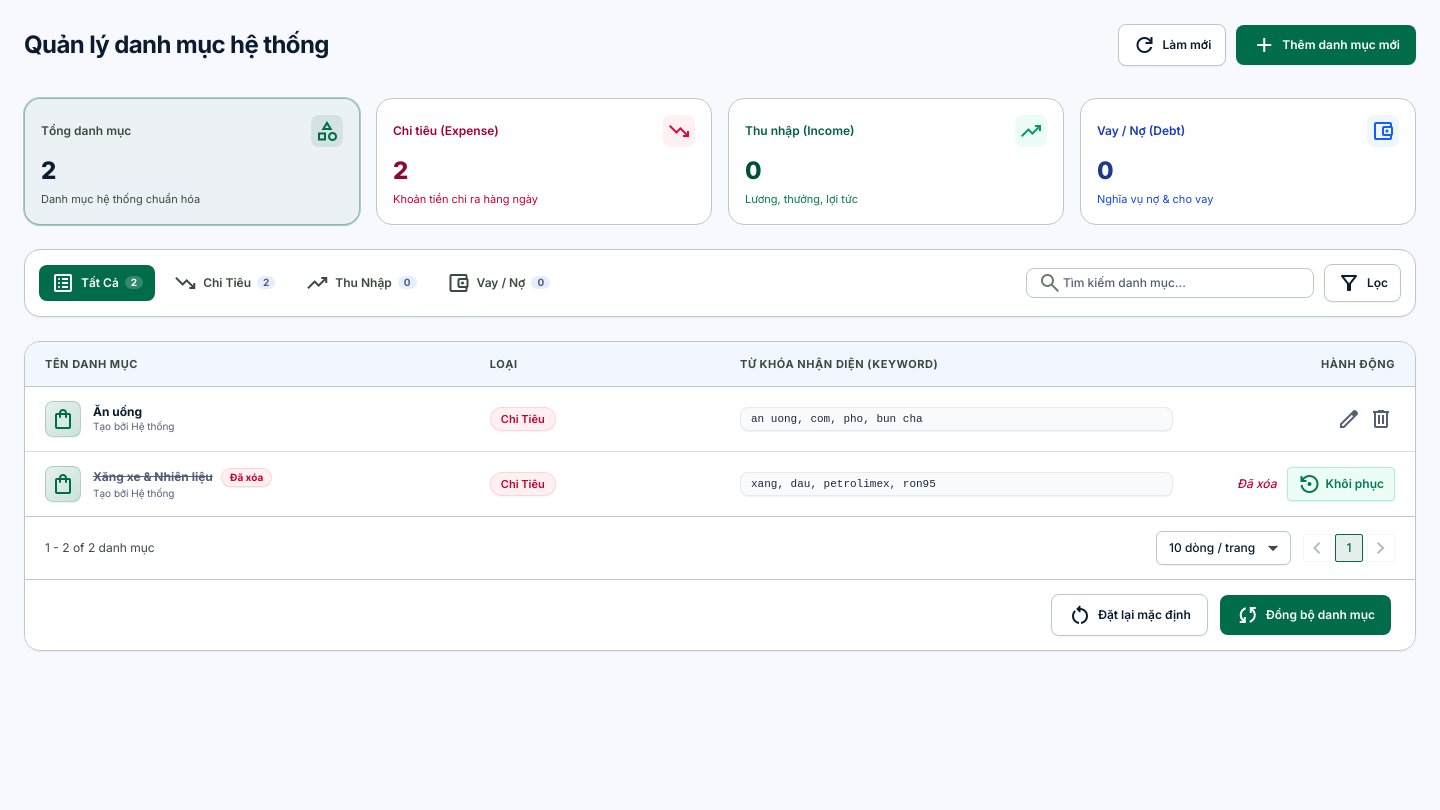
Category Soft-Delete & Restore 2-Tier Testing Suite (Rule 11) › 🧱 TẦNG 1: UI Rendering & User Interaction Verification › 1.2. Click nút "Khôi phục": danh mục chuyển ngay sang trạng thái hoạt động với badge "Đã khôi phục (nháp)"
Expected: the text "Xăng xe & Nhiên liệu" is shown, [93,469,213,485]
Click the button "Khôi phục" at (1341, 484), box [1286,467,1395,501]
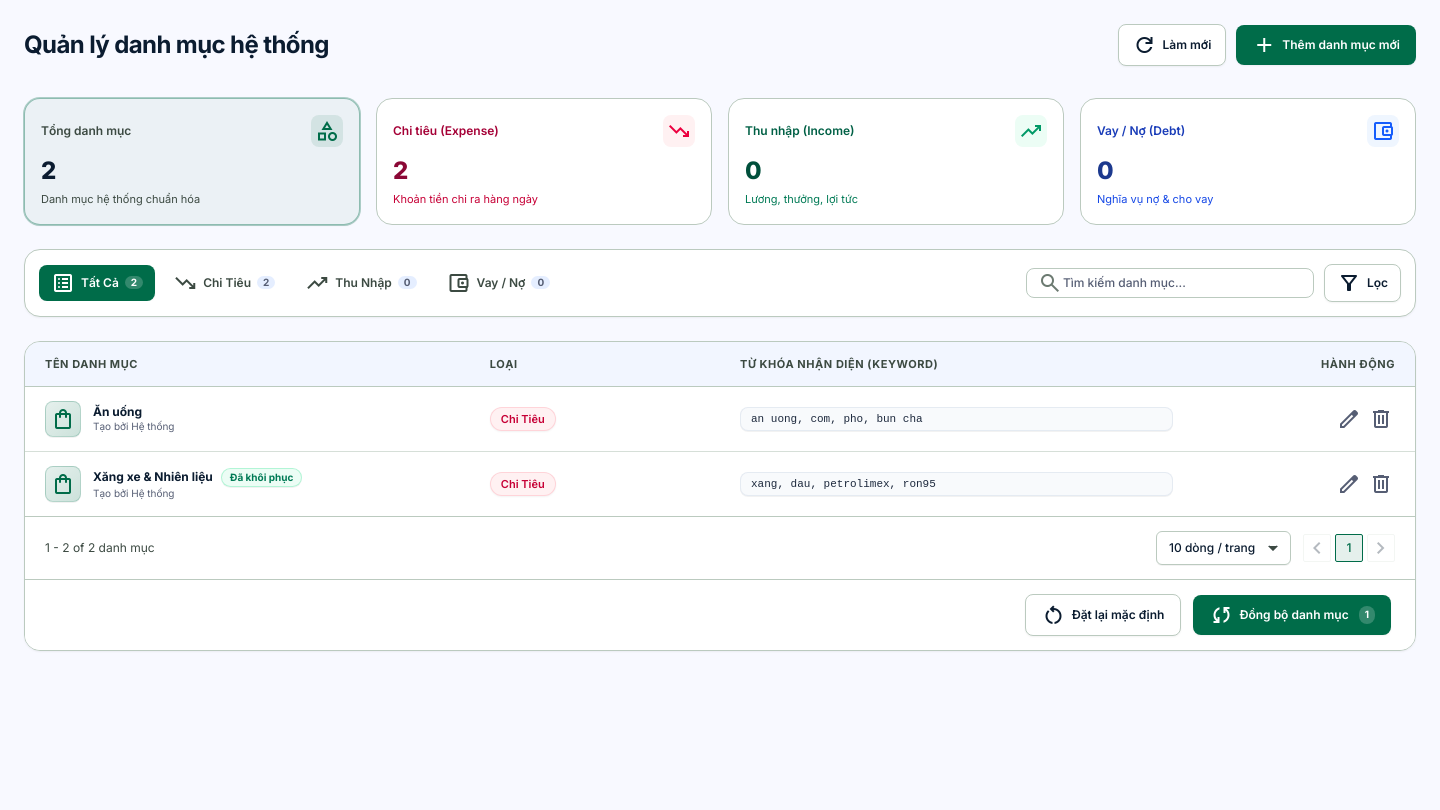
Expected: the button "Đồng bộ danh mục 1" is shown, [1193,595,1391,635]
Expected: the text "Đã khôi phục" is shown, [221,468,302,487]
